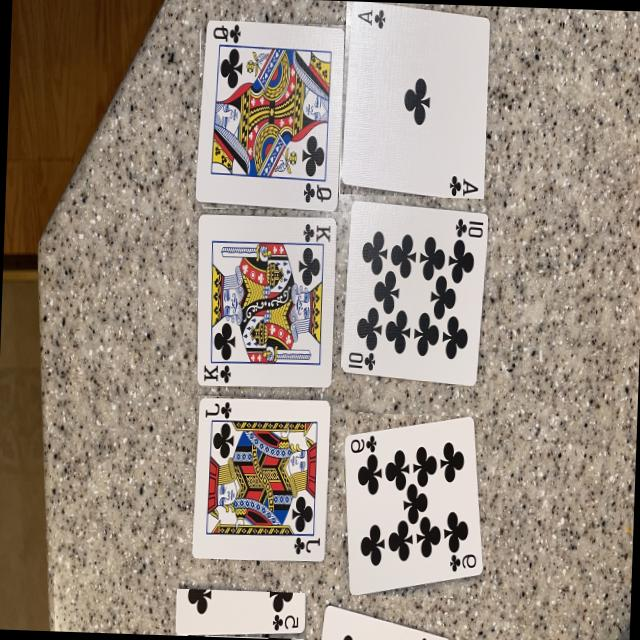10 of clubs: (340, 201, 487, 385)
5 of clubs: (174, 588, 304, 636)
9 of clubs: (343, 416, 481, 595)
Ace of clubs: (340, 1, 488, 199)
Jack of clubs: (191, 398, 328, 562)
King of clubs: (196, 216, 334, 388)
Queen of clubs: (194, 20, 342, 211)
